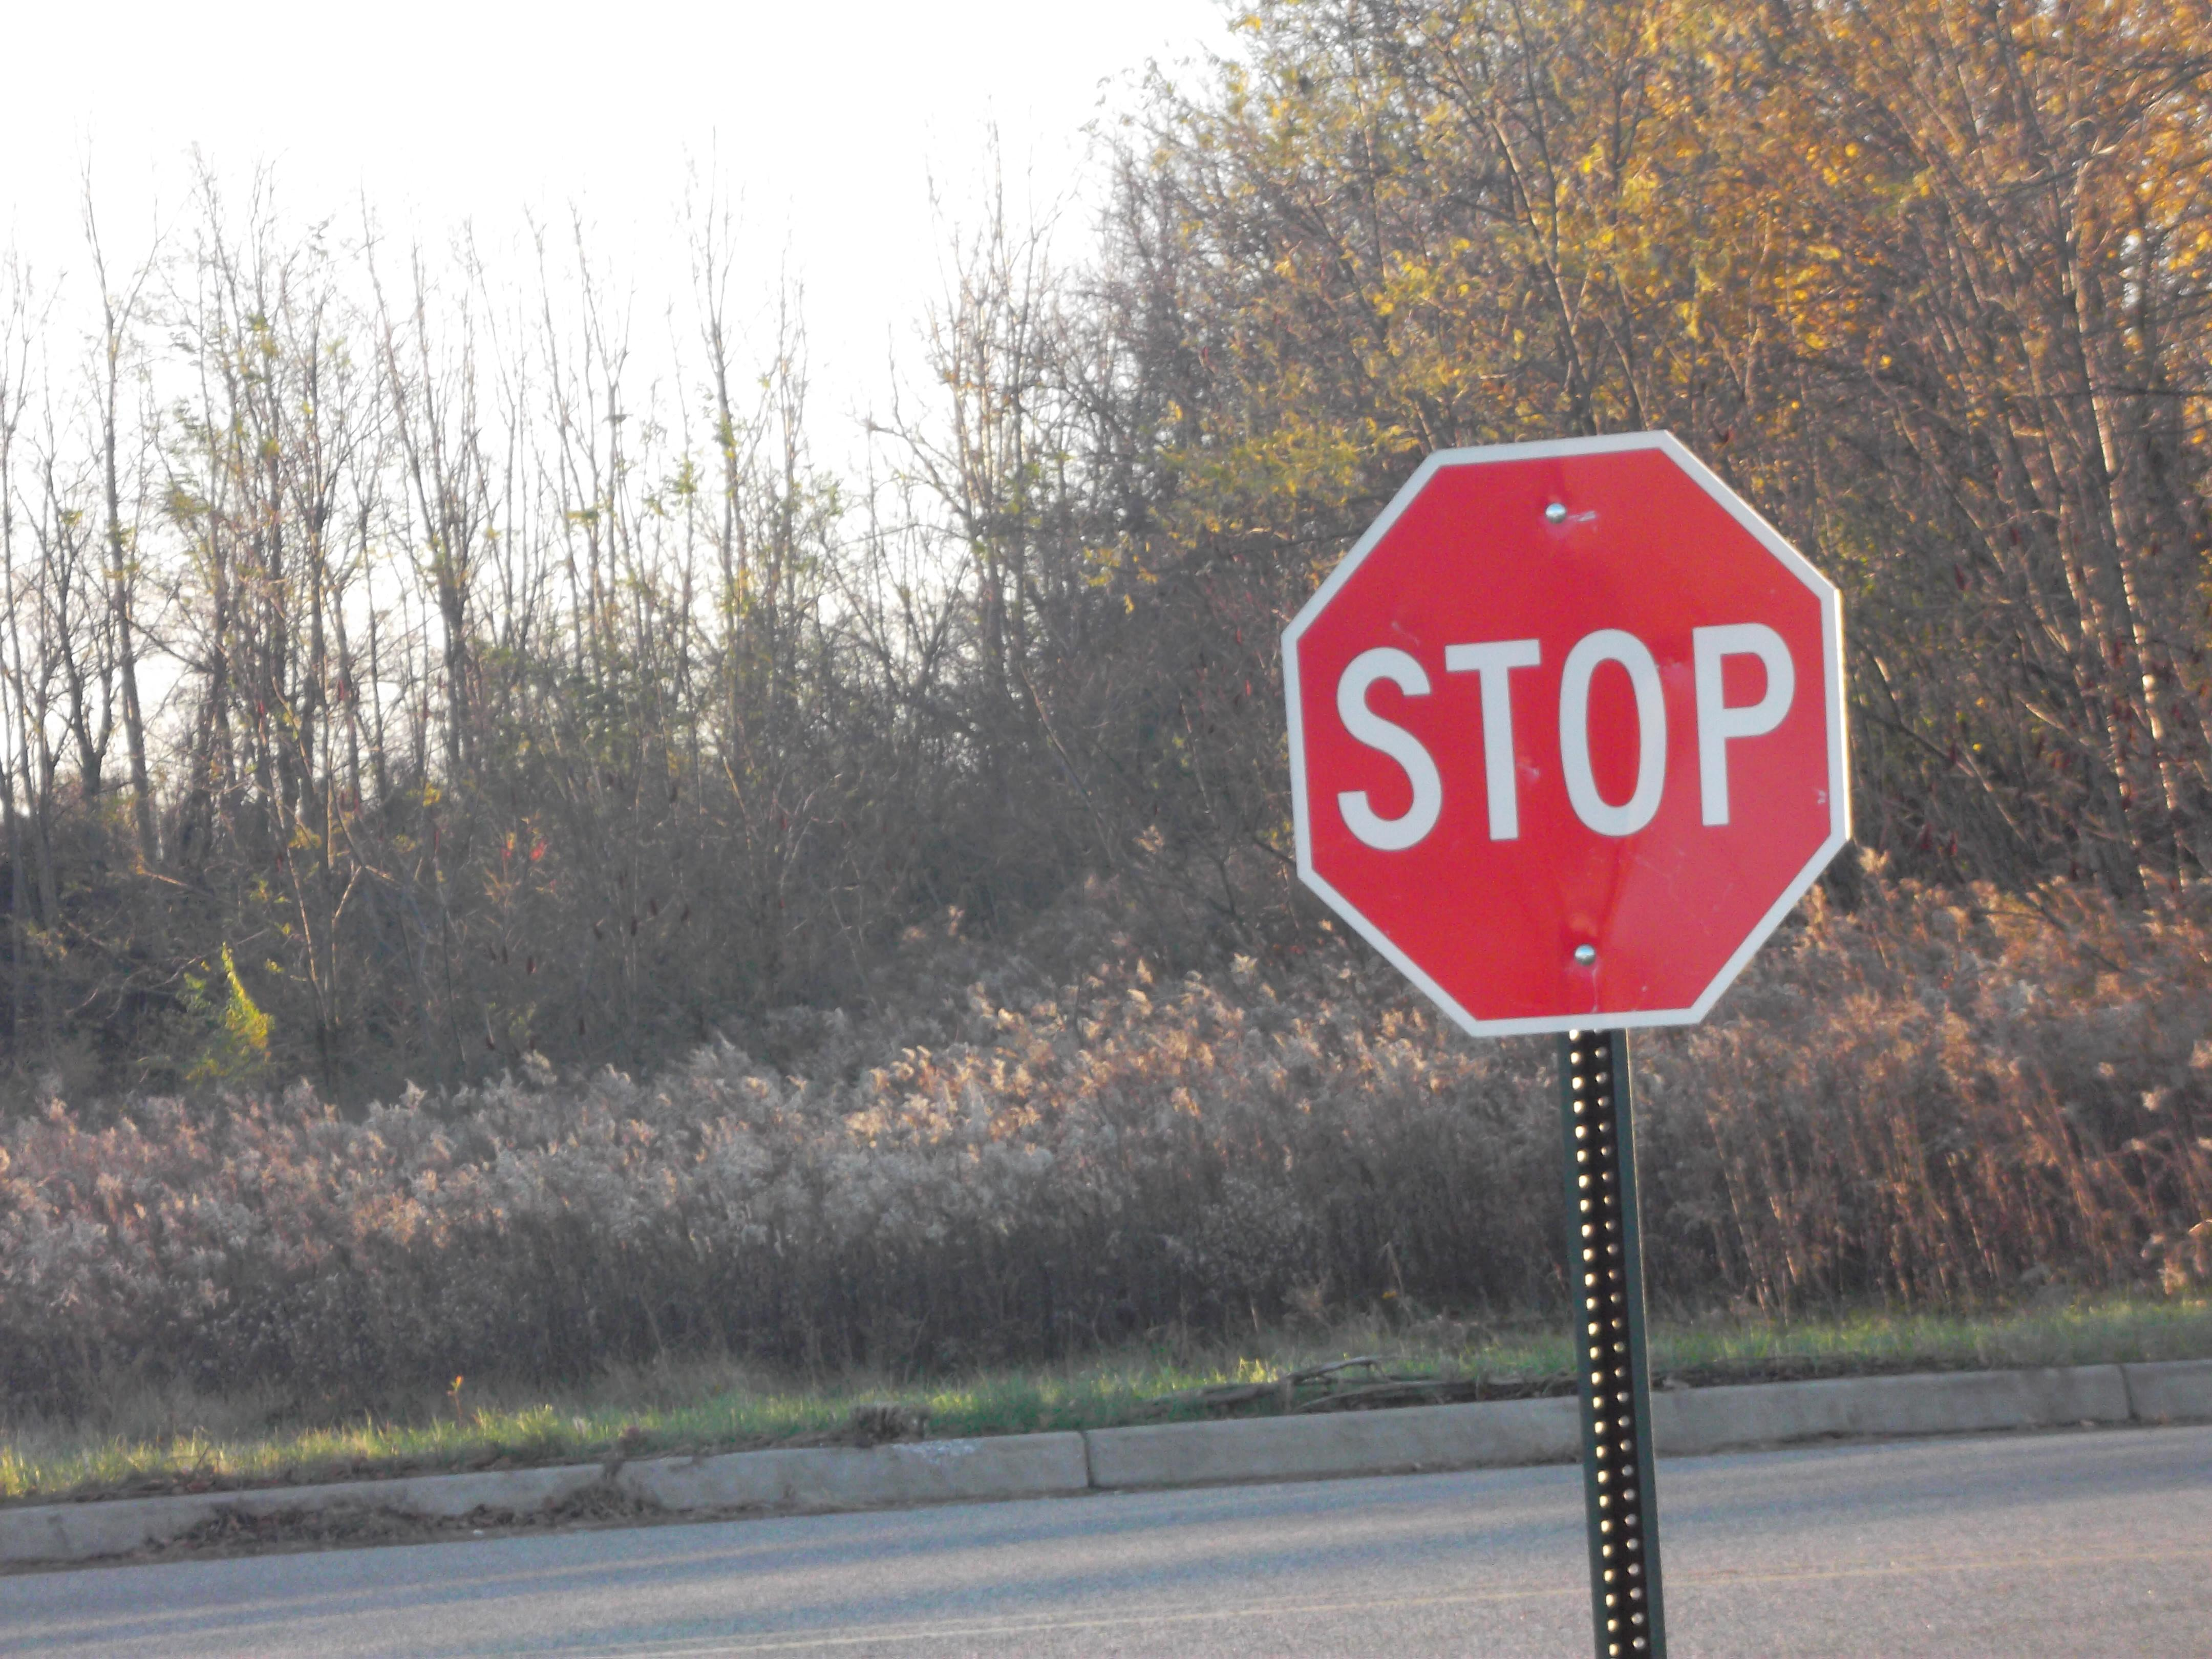stop: (1271, 429, 1865, 1042)
